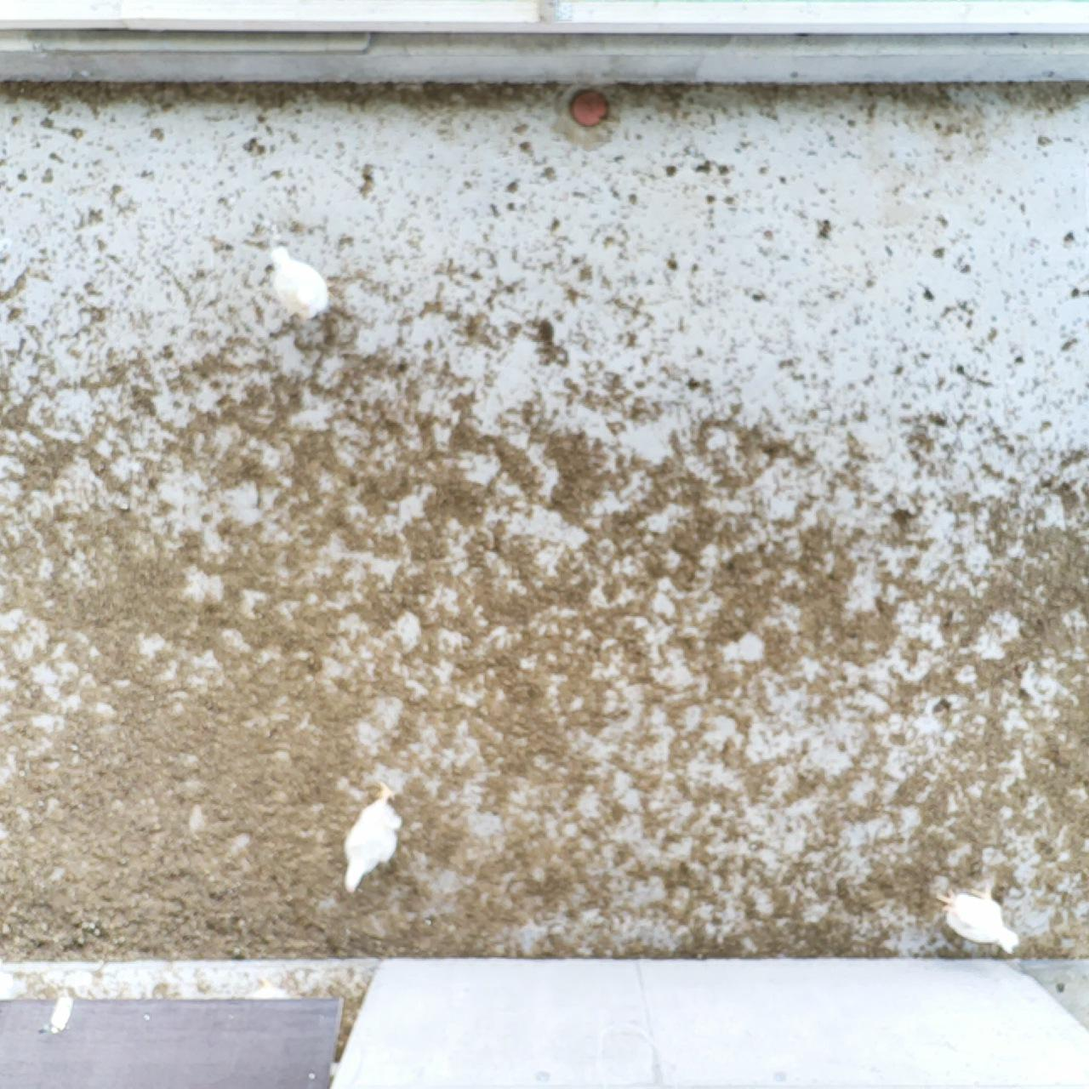chicken: (340, 775, 405, 897), (930, 879, 1023, 959), (265, 242, 336, 322)
